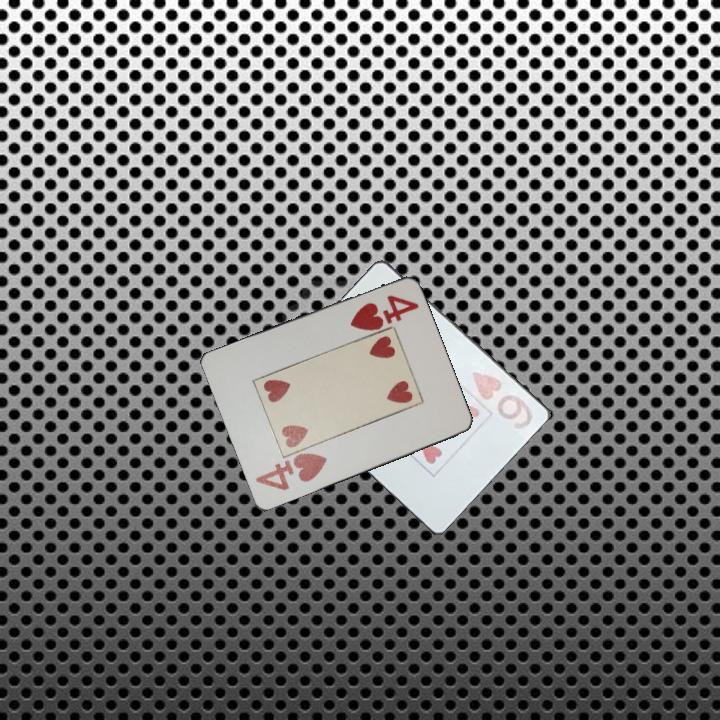4h: (252, 449, 330, 494), (346, 292, 422, 334)
6h: (468, 364, 540, 434)
